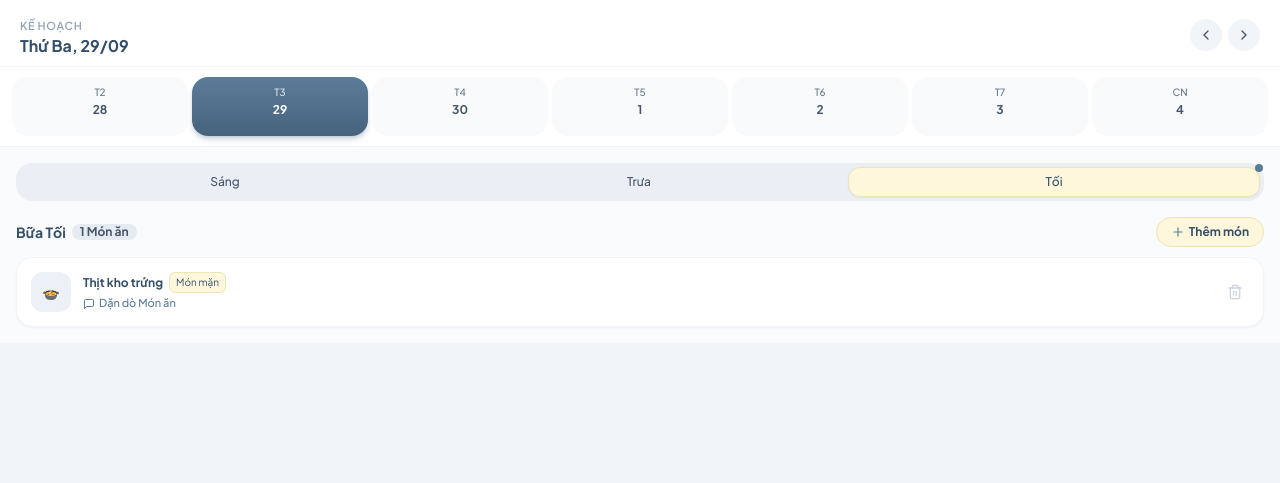
Test: Weekly Plan Integration › allows removing a Món ăn from a meal
Expected: the heading "Thịt kho trứng" is shown, [83,275,163,291]
// Click remove button
Click the button named "Gỡ Món ăn khỏi bữa".
click(1235, 292)  # box [1221,278,1249,306]
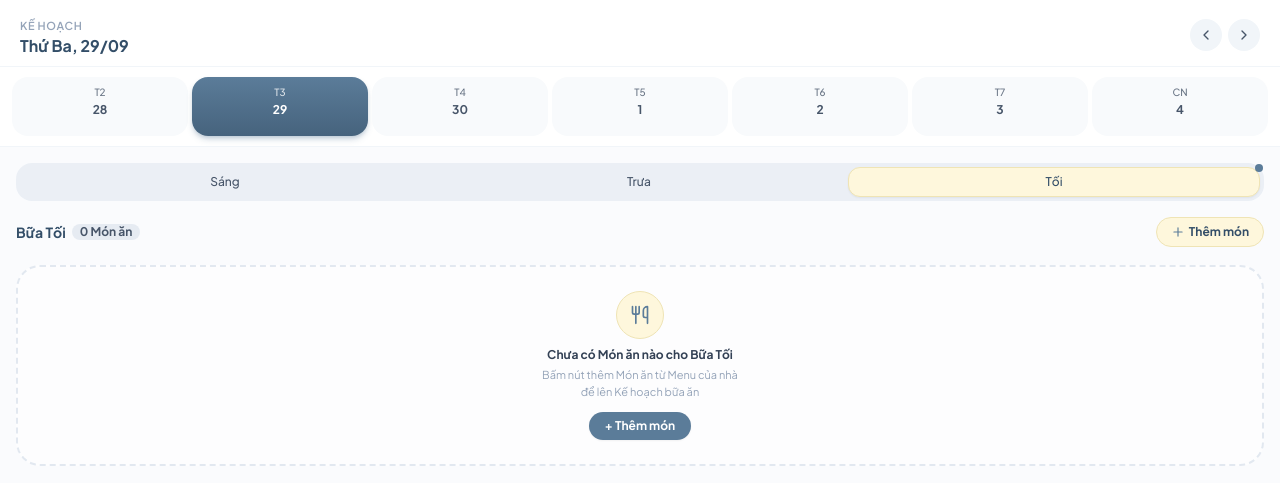
Now the heading "Thịt kho trứng" is gone
Now the text "0 Món ăn" is shown, box [72,224,140,240]
